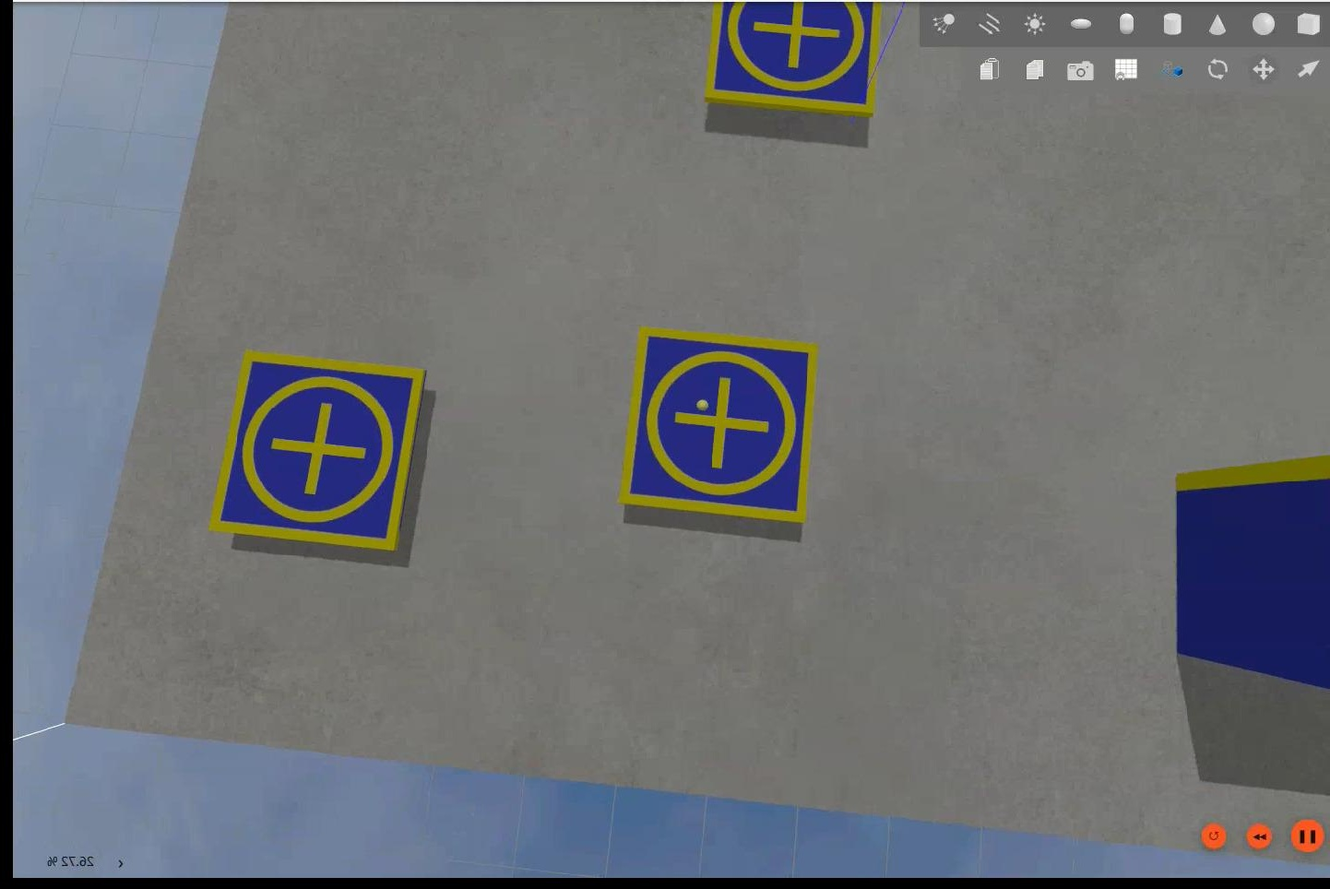small_base: (207, 350, 426, 554), (617, 328, 816, 530), (704, 1, 880, 120)
